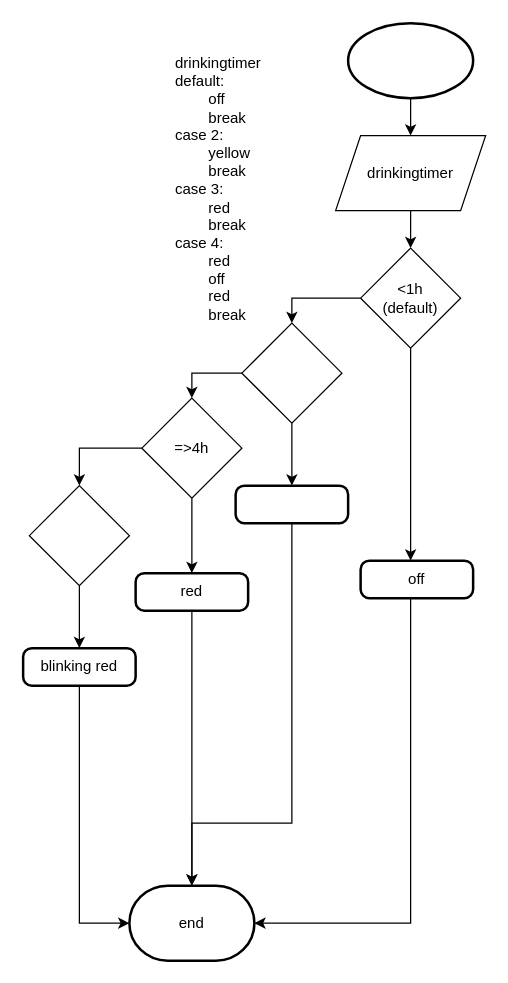
Some shapes in this 508 by 983 pixel diagram are drawn without their labels. The box of each missing label's shape, as (x1, y1, x2, y2) in pixels:
=>6h: (28, 484, 129, 586)
>1h: (241, 322, 342, 423)
Start: (346, 21, 474, 99)
yellow: (234, 484, 349, 524)
